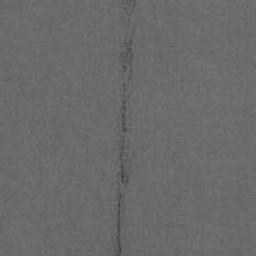Inclusion: (107, 94, 135, 256), (119, 38, 134, 92), (121, 0, 136, 16)
